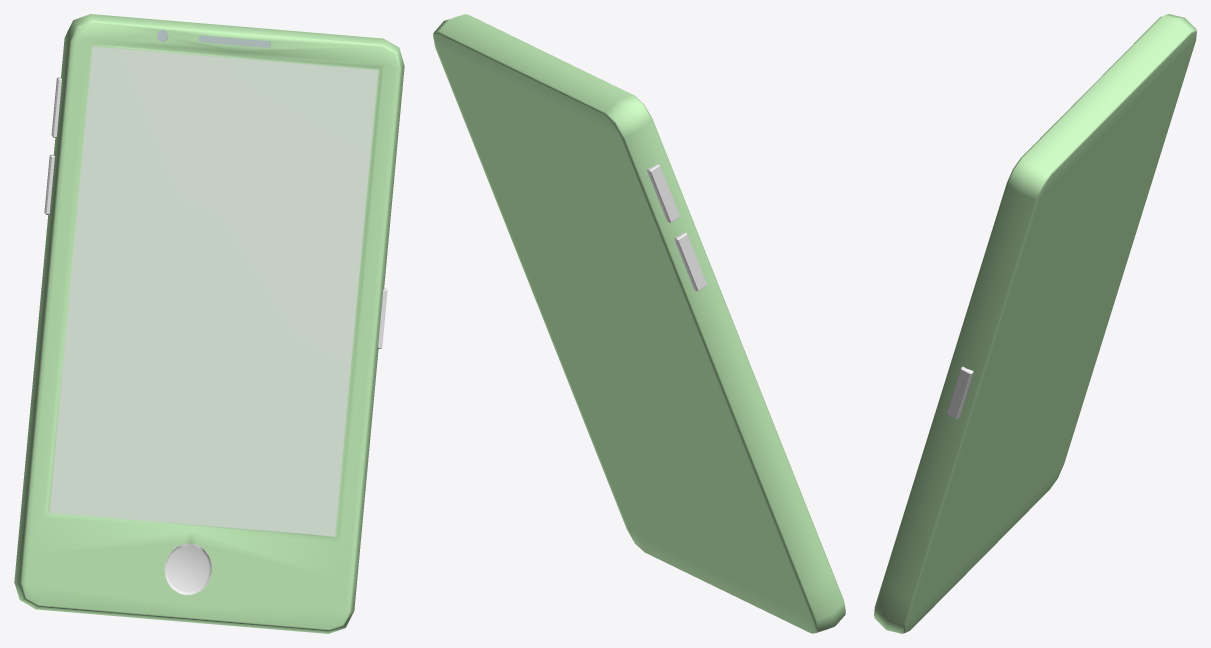
The model's file is Komono_B_smartphone.fbx.
3 renders of one model, left to right at view 1: azimuth 30°, elevation 25°; view 2: azimuth 150°, elevation 25°; view 3: azimuth 270°, elevation 25°, orthographic. The views are drawn at different scales.
Parts seen in each view (by area): view 1: Komono_B_smartphone_m; view 2: Komono_B_smartphone_m; view 3: Komono_B_smartphone_m.
Boxes of the visible parts, x1,y1,x2,y2 form: Komono_B_smartphone_m: (14, 14, 404, 633); Komono_B_smartphone_m: (433, 14, 845, 633); Komono_B_smartphone_m: (874, 14, 1196, 633).
Size of the model in its own units: 49.96 by 68.4 by 35.74.
